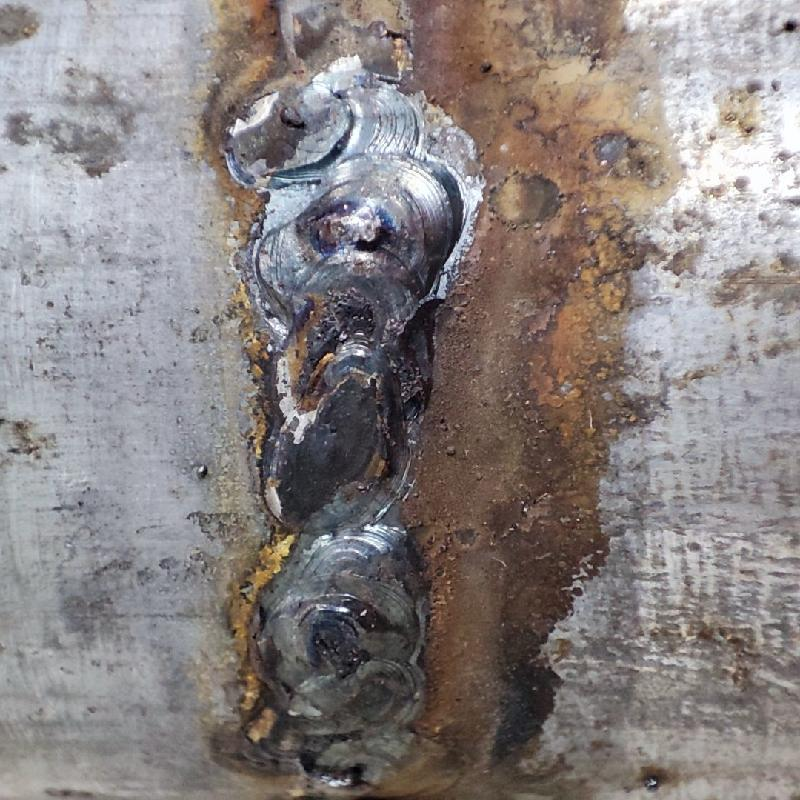Not_fully_soldered: (229, 0, 433, 155)
wrong_size: (248, 164, 462, 738)
